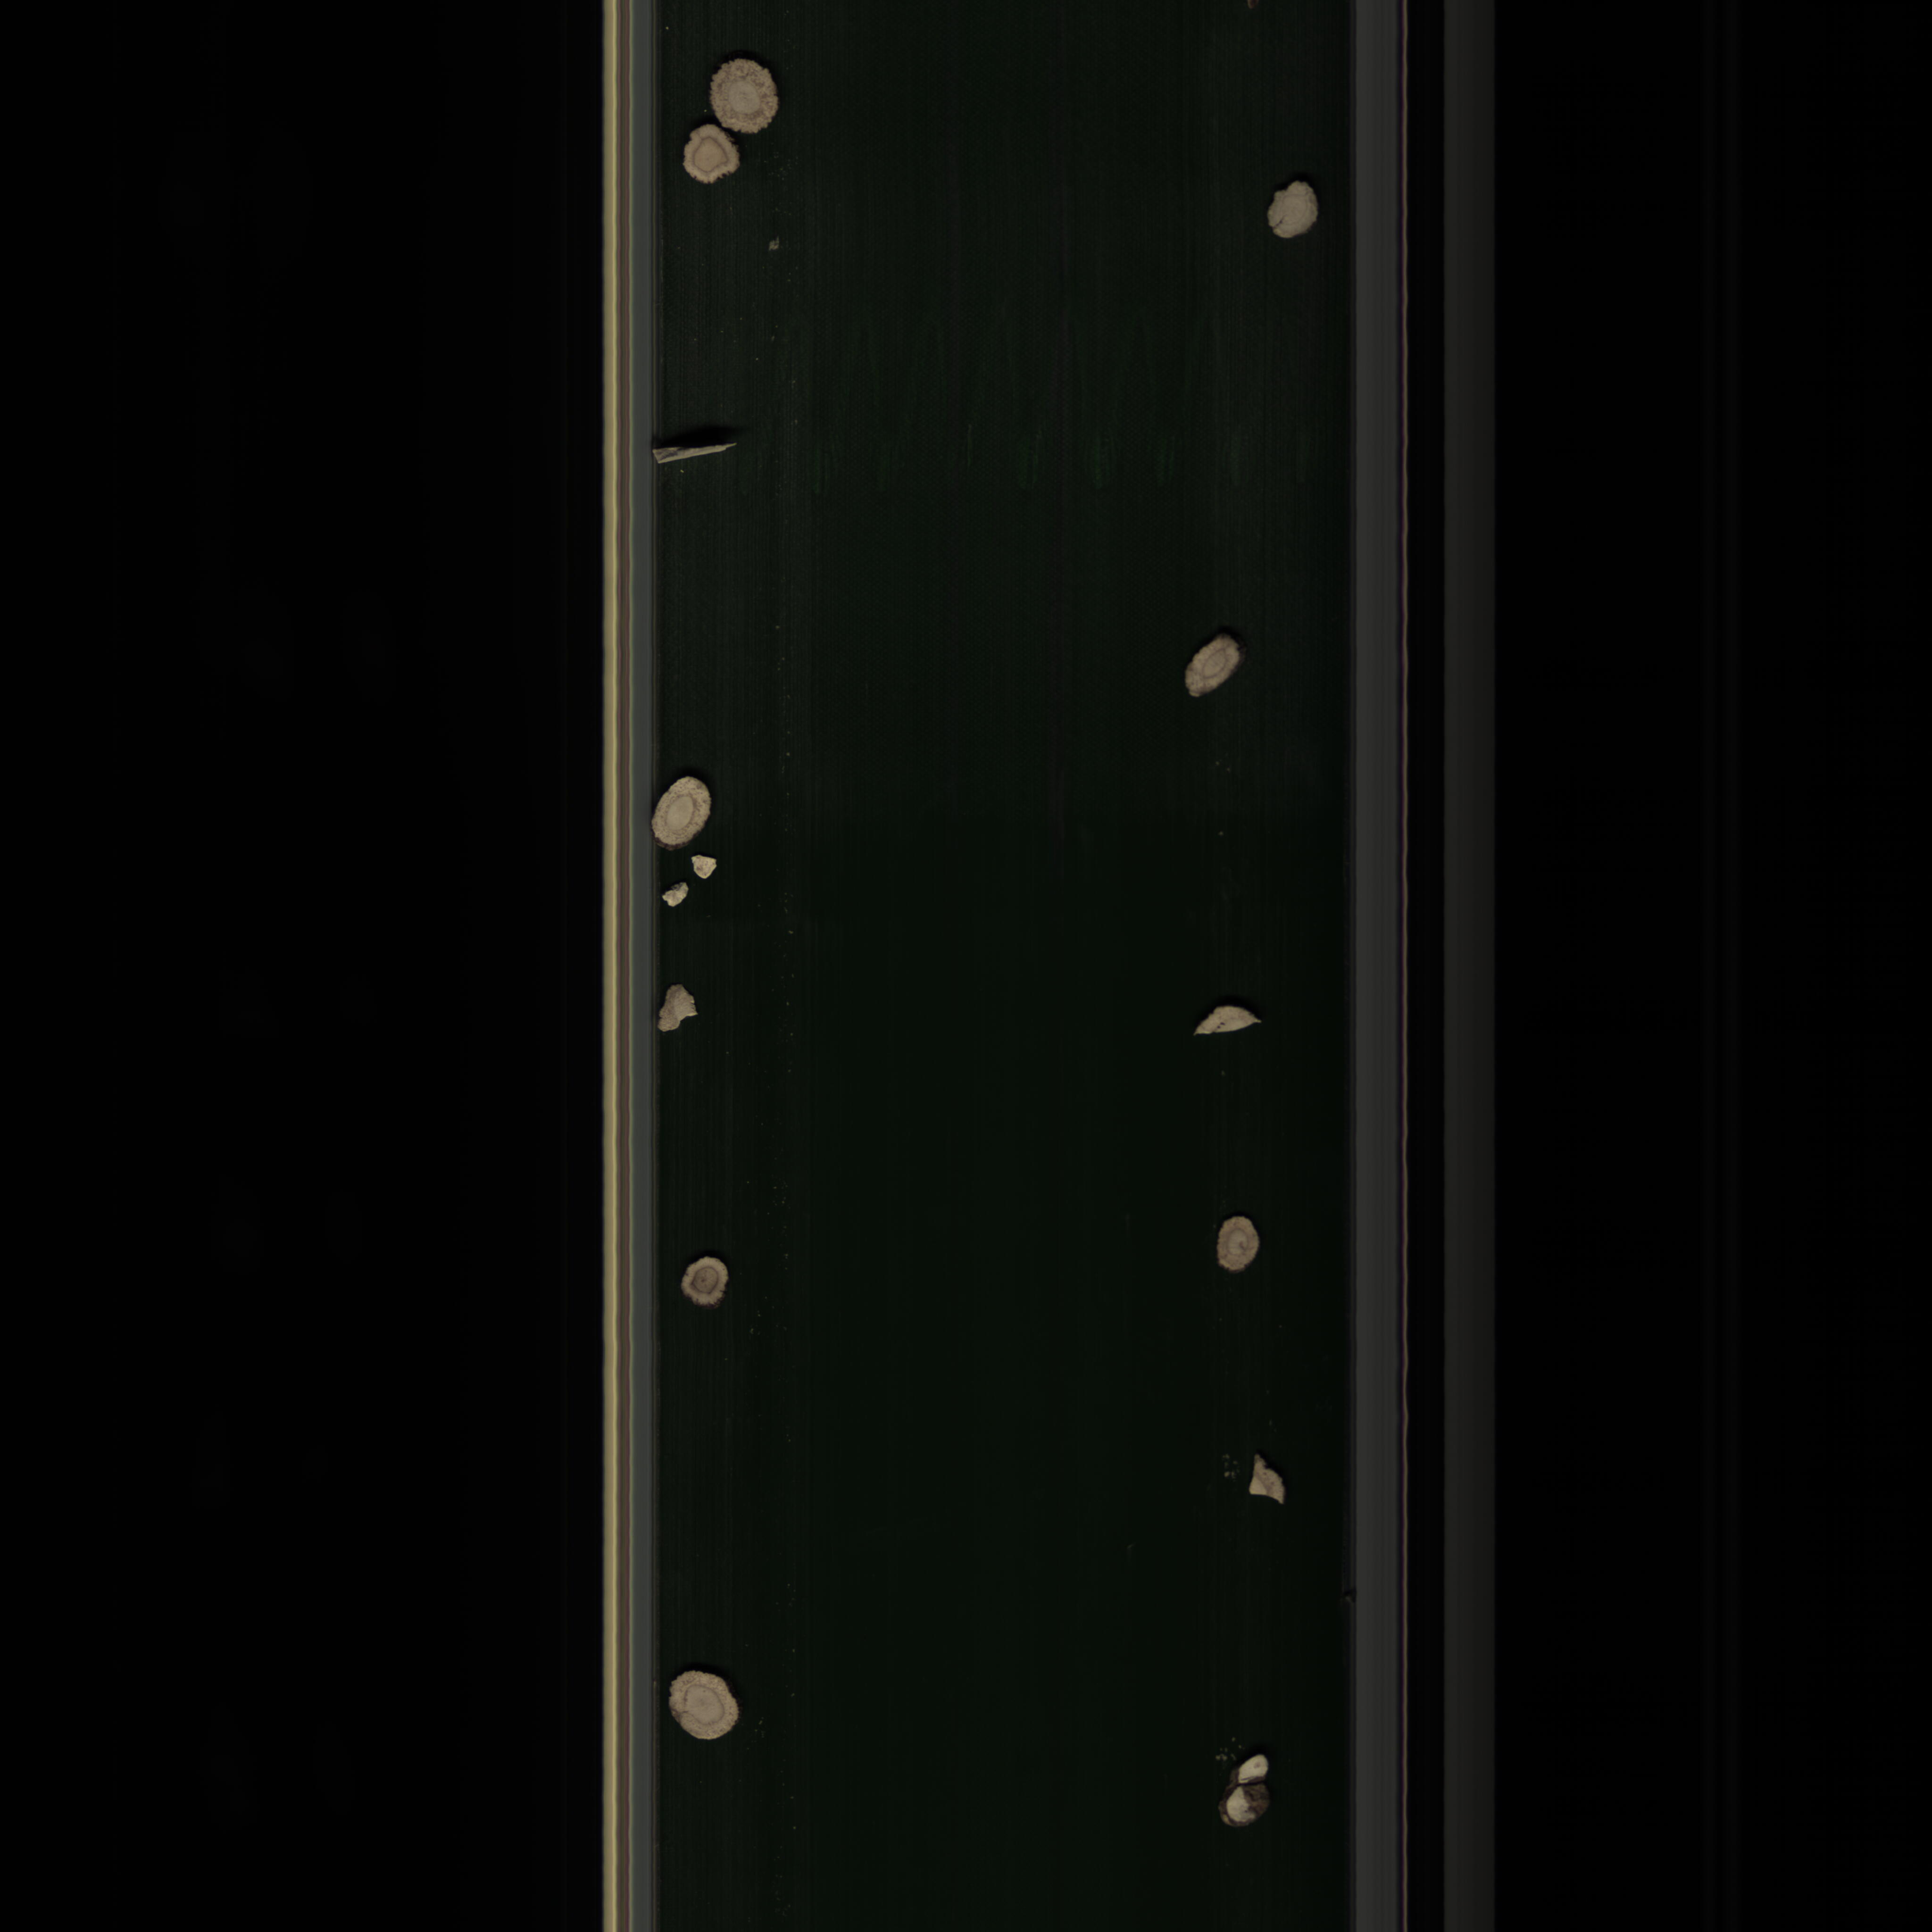bark: (1214, 1750, 1277, 1828), (649, 439, 741, 471), (685, 853, 720, 879)
debris: (1191, 1005, 1274, 1040), (658, 980, 702, 1039), (1249, 1451, 1290, 1513), (660, 878, 695, 911)
distortion: (1177, 628, 1251, 702), (1256, 173, 1325, 246)
moldy: (672, 120, 745, 195), (678, 1247, 738, 1316)
